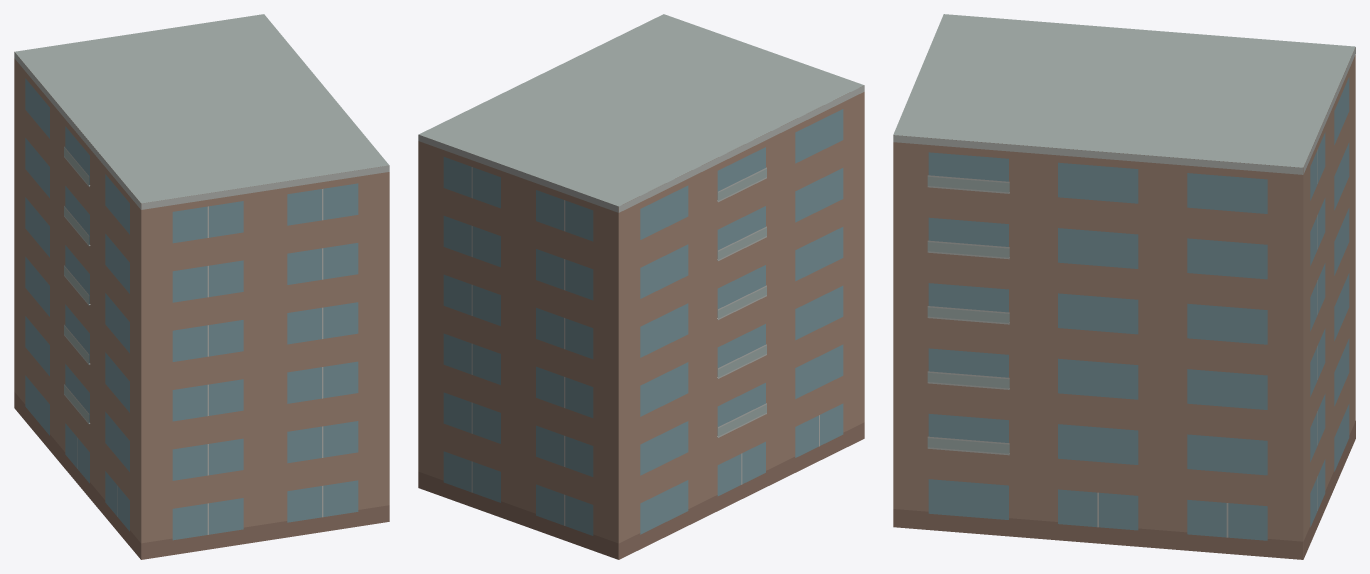
File: survey-upis-32982301.glb
3 views of the same model, side by side, from view 1: azimuth 30°, elevation 25°; view 2: azimuth 150°, elevation 25°; view 3: azimuth 270°, elevation 25° (orthographic). The views are drawn at different scales.
Parts seen in each view (by area): view 1: survey-upis-32982301.tmp; view 2: survey-upis-32982301.tmp; view 3: survey-upis-32982301.tmp.
Part boxes in pixels (x1=…): survey-upis-32982301.tmp: x1=14, y1=14, x2=389, y2=559; survey-upis-32982301.tmp: x1=418, y1=14, x2=864, y2=559; survey-upis-32982301.tmp: x1=893, y1=14, x2=1355, y2=559.
Size of the model in its own units: 11.28 by 13.4 by 14.34.
